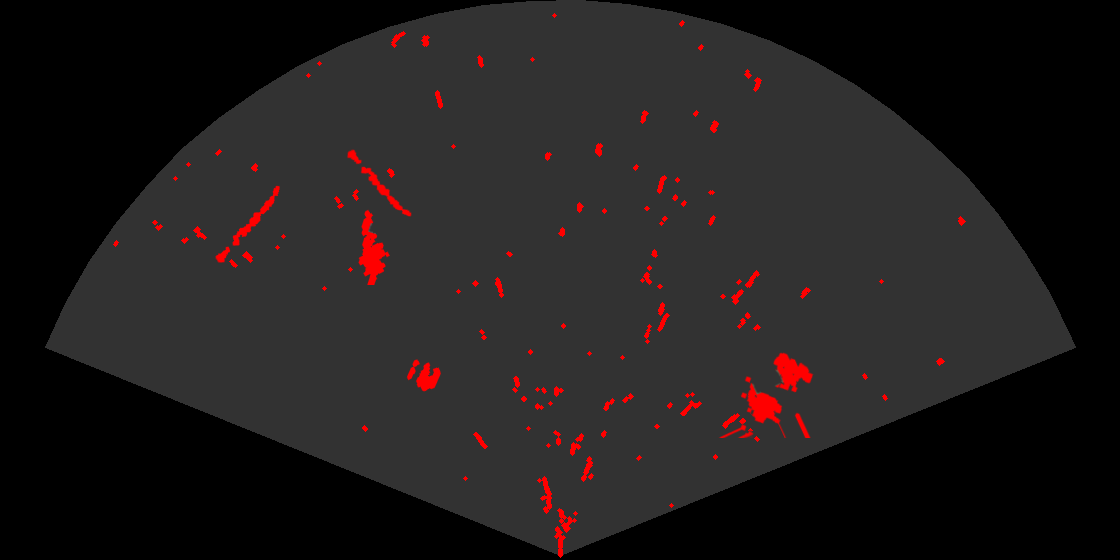ball: (405, 358, 442, 393)
cage: (718, 351, 815, 438)
chain: (214, 184, 281, 264), (345, 148, 413, 218)
frogman: (357, 208, 391, 285)
